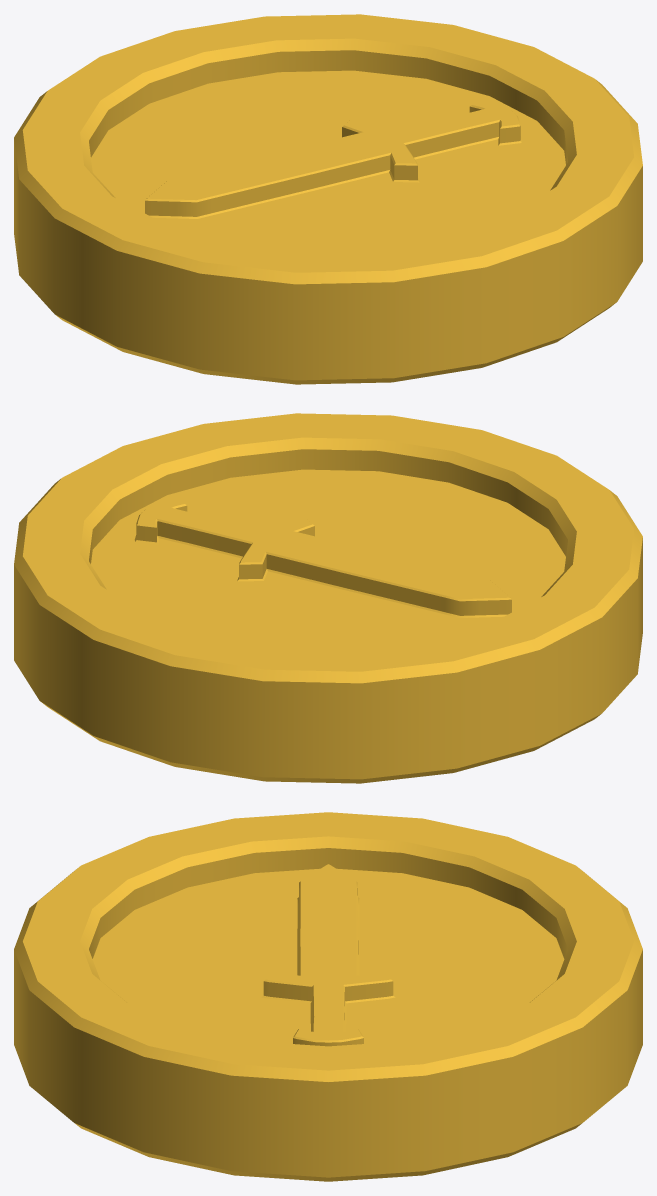
File: coin.fbx
3 views of the same model, one above another, from view 1: azimuth 30°, elevation 25°; view 2: azimuth 150°, elevation 25°; view 3: azimuth 270°, elevation 25° (orthographic).
Parts seen in each view (by area): view 1: Cylinder; view 2: Cylinder; view 3: Cylinder.
Part boxes in pixels (bbox=[...]): Cylinder: bbox=[14, 14, 642, 384]; Cylinder: bbox=[14, 413, 642, 783]; Cylinder: bbox=[14, 812, 642, 1181].
Size of the model in its own units: 200 by 39 by 200.
